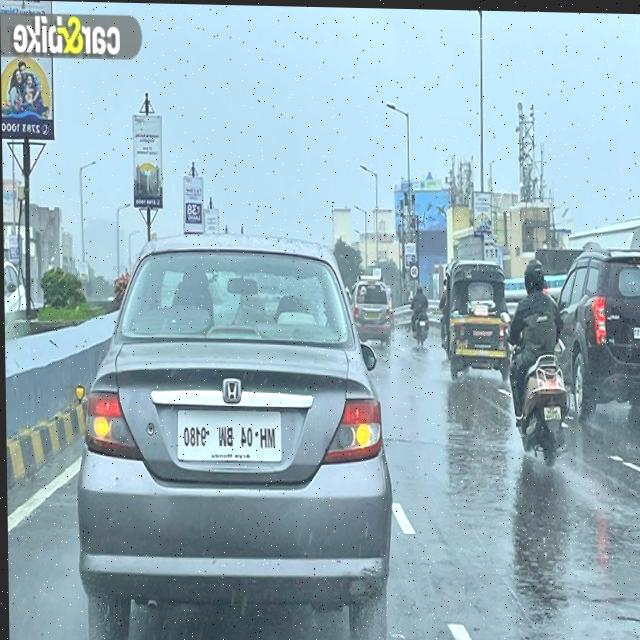plate: (172, 405, 282, 468), (543, 399, 563, 419), (362, 308, 378, 319), (455, 336, 467, 349)
